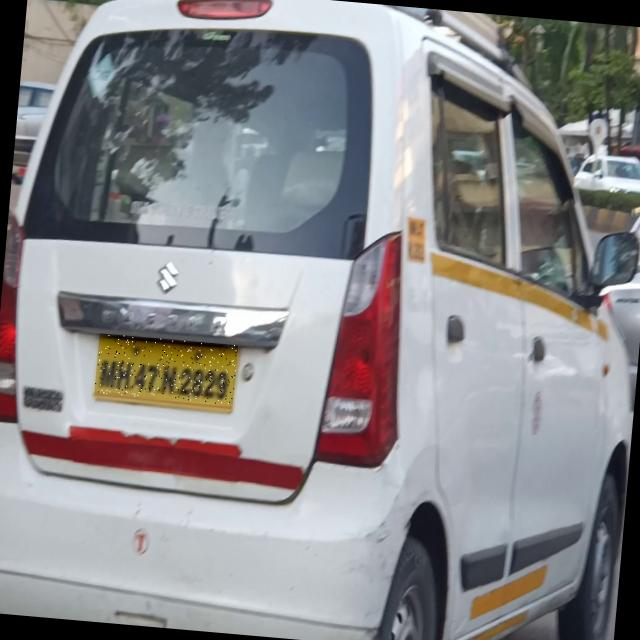Plate: (95, 334, 239, 406)
